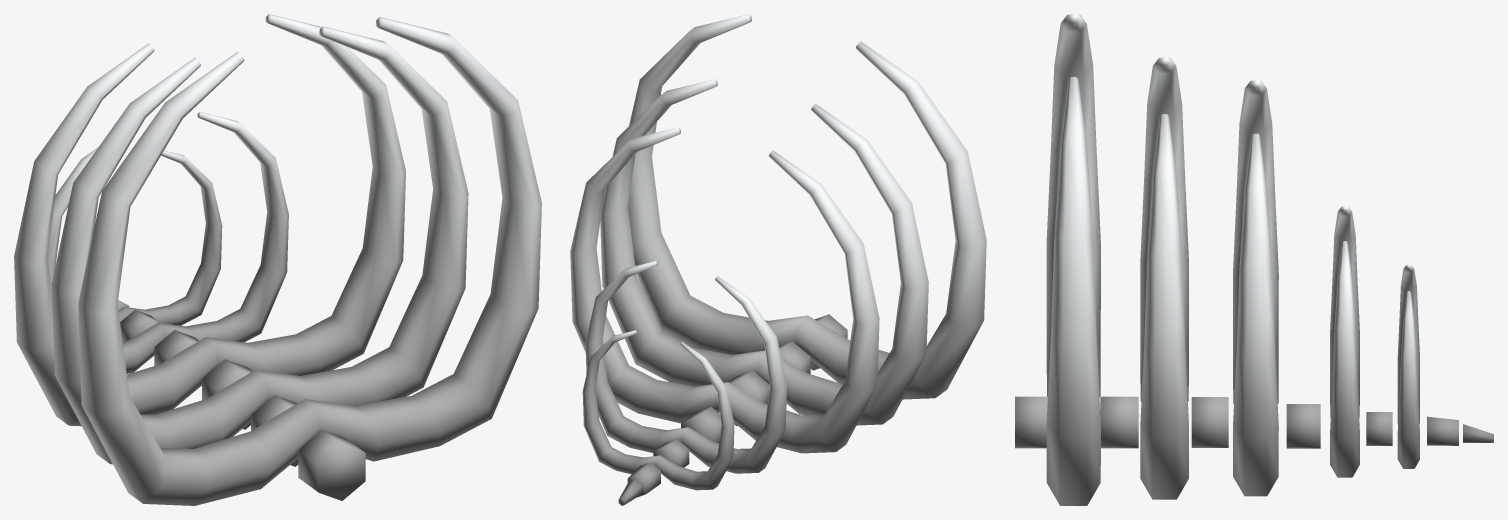
File: W3_OBSTACLE_1.fbx
3 views of the same model, side by side, from view 1: azimuth 30°, elevation 25°; view 2: azimuth 150°, elevation 25°; view 3: azimuth 270°, elevation 25° (orthographic). The views are drawn at different scales.
Visible parts, largest first — view 1: W3_OBSTACLE_1; view 2: W3_OBSTACLE_1; view 3: W3_OBSTACLE_1.
Part boxes in pixels (x1,y1,x2,y2): W3_OBSTACLE_1: (14, 14, 541, 505); W3_OBSTACLE_1: (570, 14, 986, 505); W3_OBSTACLE_1: (1015, 14, 1493, 505).
Size of the model in its own units: 488 by 458 by 493.
